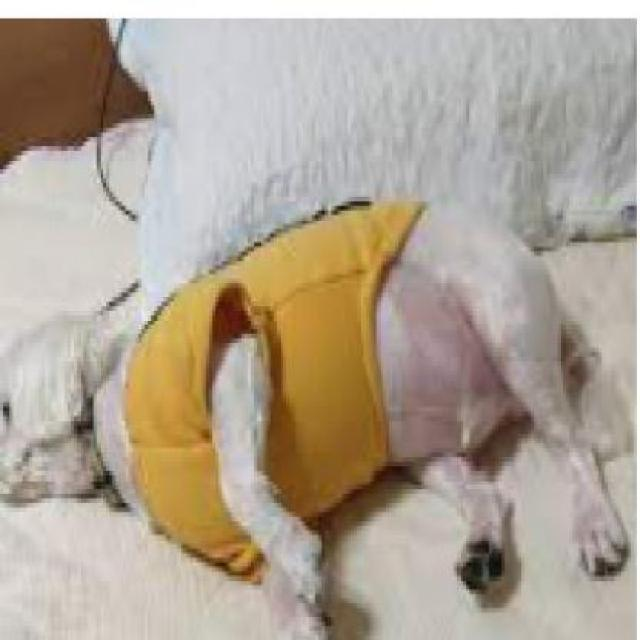Dog: (3, 188, 631, 635)
